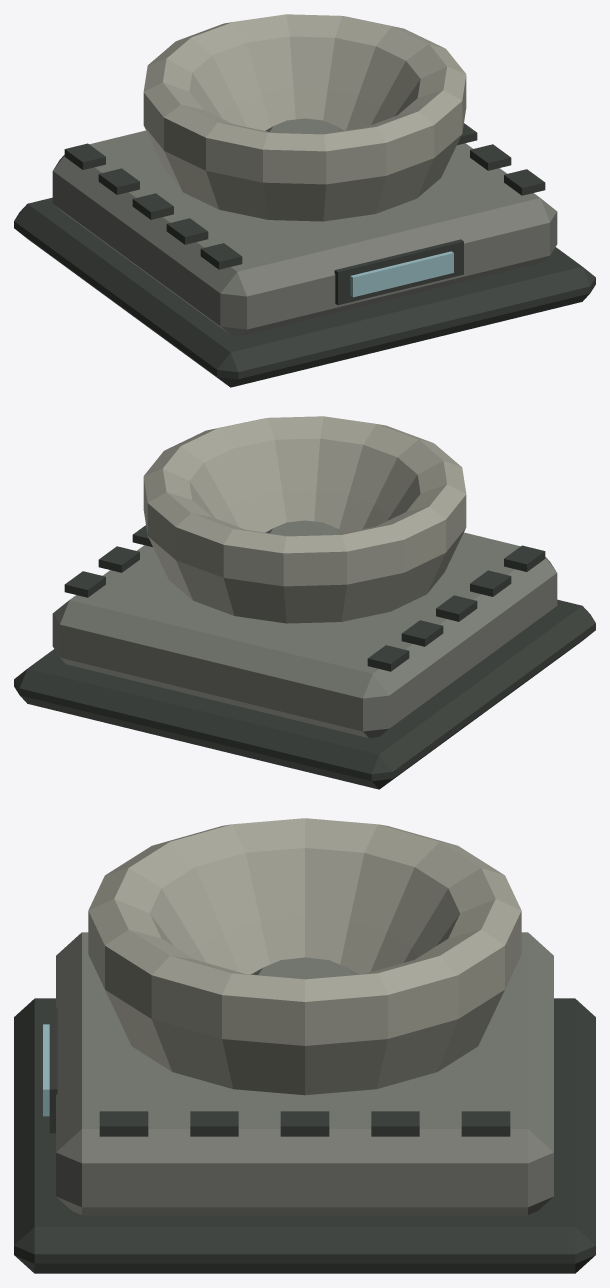
File: signal_jammer.obj
3 renders of one model, top to bottom at view 1: azimuth 30°, elevation 25°; view 2: azimuth 150°, elevation 25°; view 3: azimuth 270°, elevation 25°, orthographic. The views are drawn at different scales.
Visible parts, largest first — view 1: signal_jammer; view 2: signal_jammer; view 3: signal_jammer.
Part boxes in pixels (x1,y1,x2,y2): signal_jammer: [14, 14, 595, 387]; signal_jammer: [14, 416, 595, 789]; signal_jammer: [14, 818, 595, 1273].
Size of the model in its own units: 1.8 by 0.89 by 1.8.
